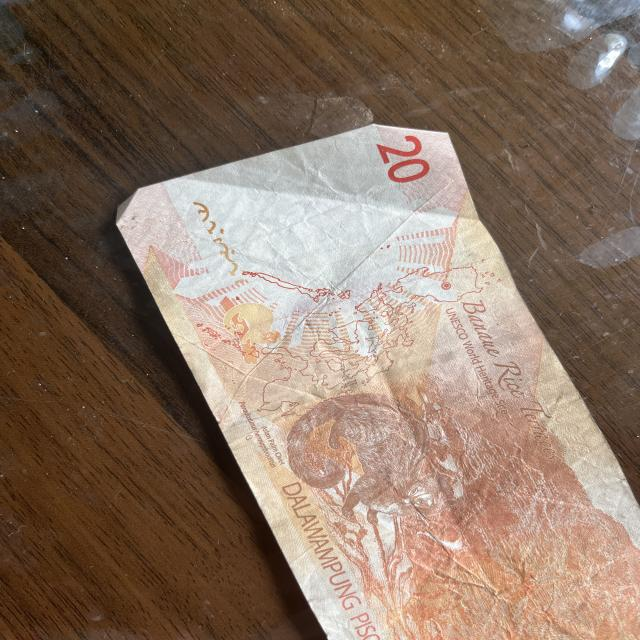20_civet: (282, 384, 457, 532)
20_civet_watermark: (215, 304, 294, 356)
